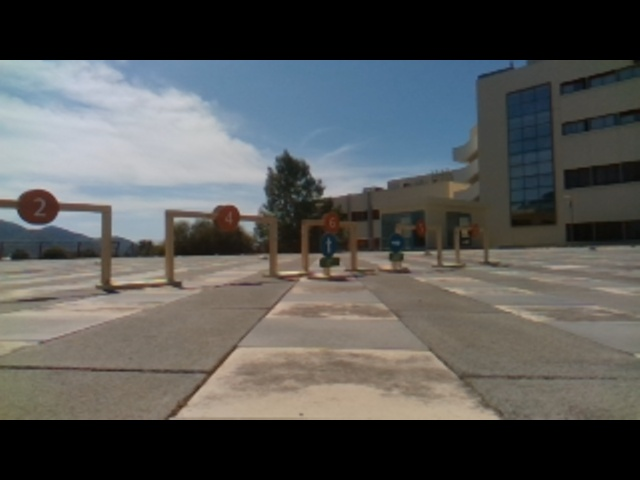arrow_right: (387, 232, 405, 251)
arrow_up: (318, 234, 341, 255)
checkpoint_foot: (98, 275, 145, 294), (144, 277, 178, 289), (265, 268, 302, 279)
checkpoint_side: (98, 198, 114, 286), (161, 204, 176, 284), (267, 213, 278, 277), (298, 217, 311, 271), (348, 222, 358, 268)
checkpoint_signal: (2, 196, 116, 218), (164, 207, 281, 225), (297, 220, 362, 230)
four: (212, 202, 244, 231)
six: (321, 213, 341, 233)
two: (16, 185, 58, 226)
